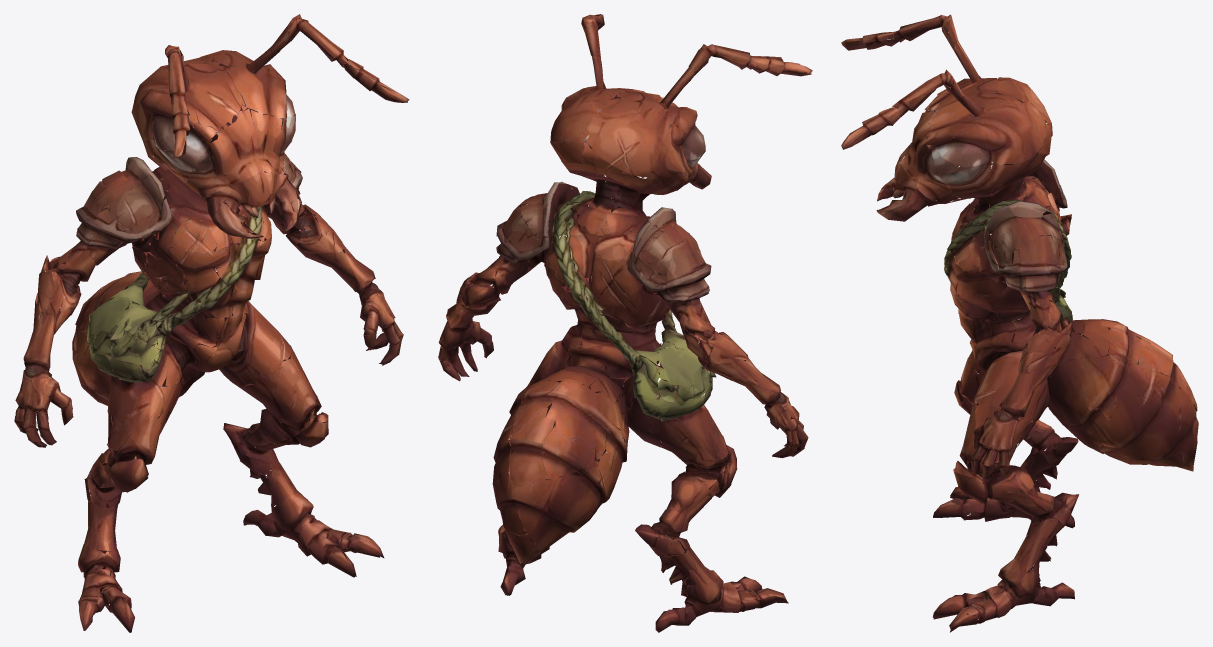
The model's file is isci.glb.
3 renders of one model, left to right at view 1: azimuth 30°, elevation 25°; view 2: azimuth 150°, elevation 25°; view 3: azimuth 270°, elevation 25°, orthographic. The views are drawn at different scales.
Parts seen in each view (by area): view 1: torso, head, gaster, leg_L_thigh, leg_R_thigh, leg_L_foot, leg_R_foot, hand_RU, arm_RU_upper, hand_LU, arm_RU_lower, arm_LU_upper (+5 smaller); view 2: torso, gaster, head, leg_R_foot, leg_R_thigh, leg_R_shin, arm_RU_upper, arm_LU_upper, hand_LU, hand_RU, arm_RU_lower, antenna_R (+2 smaller); view 3: gaster, head, torso, leg_L_foot, leg_L_thigh, arm_LU_upper, leg_R_foot, hand_LU, leg_L_shin, antenna_L, arm_LU_lower, leg_R_shin (+2 smaller).
Part boxes in pixels (x1,y1,x2,y2): torso: (76, 153, 302, 382); head: (131, 14, 326, 238); gaster: (72, 271, 257, 405); leg_L_thigh: (232, 304, 328, 447); leg_R_thigh: (98, 344, 185, 492); leg_L_foot: (240, 449, 384, 577); leg_R_foot: (78, 479, 134, 632); hand_RU: (14, 344, 73, 447); arm_RU_upper: (37, 228, 125, 309); hand_LU: (356, 272, 403, 365); arm_RU_lower: (24, 284, 78, 363); arm_LU_upper: (266, 188, 333, 256); torso: (496, 181, 716, 419); gaster: (492, 327, 674, 563); head: (550, 14, 734, 222); leg_R_foot: (655, 530, 788, 632); leg_R_thigh: (645, 372, 737, 497); leg_R_shin: (635, 472, 720, 556); arm_RU_upper: (657, 283, 732, 368); arm_LU_upper: (457, 231, 541, 315); hand_LU: (438, 314, 493, 381); hand_RU: (763, 380, 808, 458); arm_RU_lower: (704, 336, 778, 403); antenna_R: (714, 45, 812, 76); gaster: (962, 289, 1198, 471); head: (876, 14, 1052, 242); torso: (944, 159, 1072, 343); leg_L_foot: (933, 515, 1074, 632); leg_L_thigh: (953, 353, 1045, 504); arm_LU_upper: (1007, 273, 1071, 381); leg_R_foot: (933, 442, 1074, 528); hand_LU: (971, 406, 1023, 481); leg_L_shin: (985, 465, 1079, 533); antenna_L: (841, 74, 941, 149); arm_LU_lower: (999, 349, 1056, 416); leg_R_shin: (1023, 418, 1078, 465).
Size of the model in its own units: 1.33 by 1.91 by 1.18.
1 material, 1 textured.
